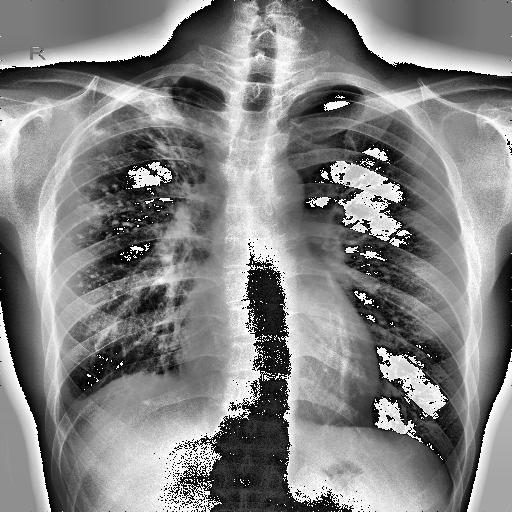10- Pleural effusion: (35, 371, 102, 463), (52, 392, 80, 440)
11- Pleural thickening: (90, 75, 166, 127), (52, 392, 80, 440)
13- Pulmonary fibrosis: (81, 78, 193, 178), (91, 91, 198, 192), (72, 146, 140, 300), (100, 76, 192, 182), (57, 176, 136, 285)
2- Calcification: (76, 157, 138, 289)
7- Lung Opacity: (55, 376, 180, 450)
8- Nodule-Mass: (72, 146, 140, 300)
